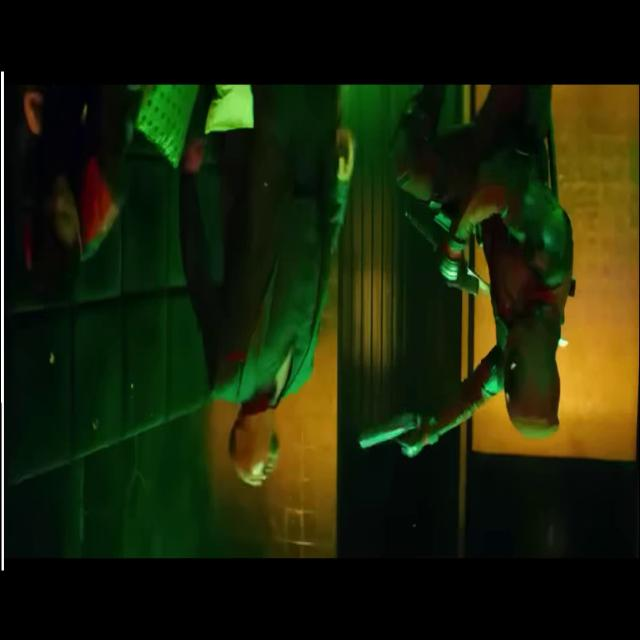weapons: (349, 384, 443, 486)
